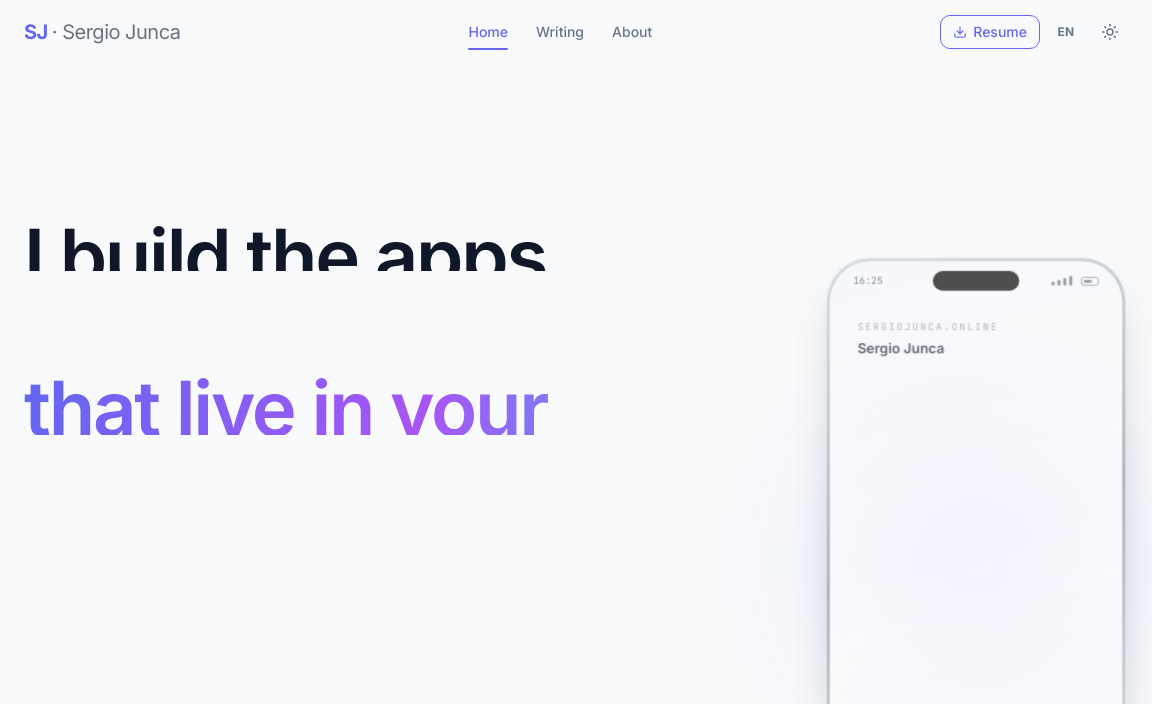
Test: routing › navigates from the landing page to the blog via the navbar
Click the link "Writing".
click(560, 32)  # box [536, 23, 584, 40]
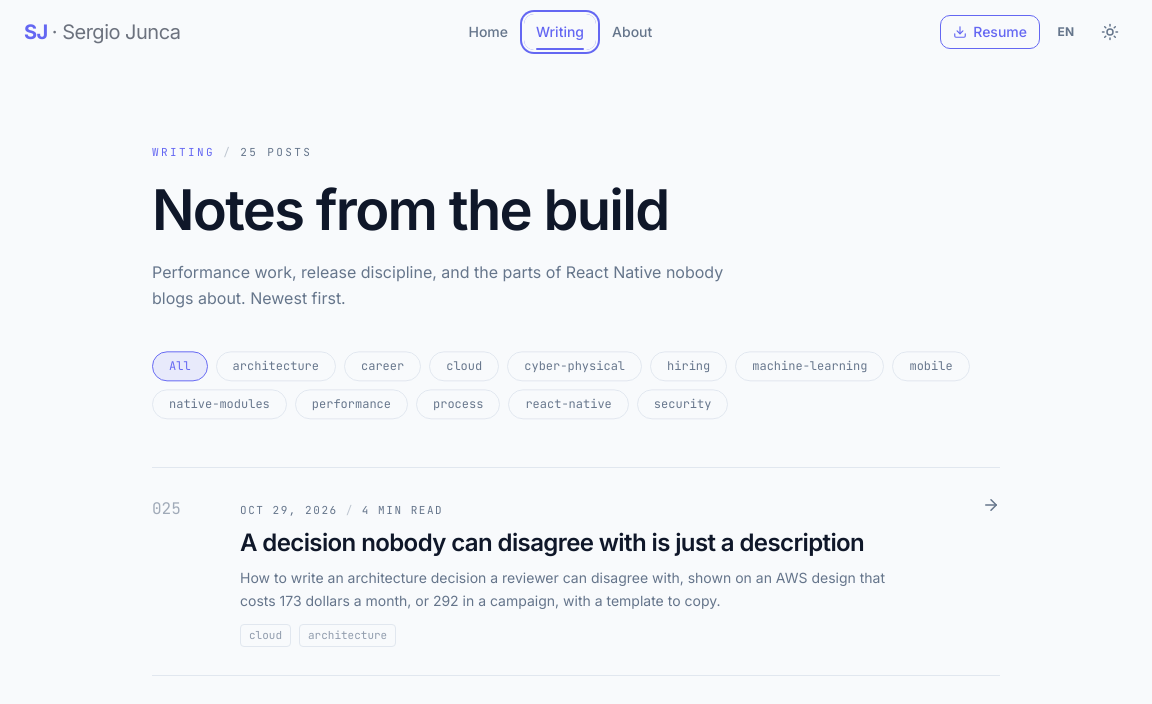
Expected: the heading "A decision nobody can disagree with is just a description" is shown, [240, 527, 944, 559]
